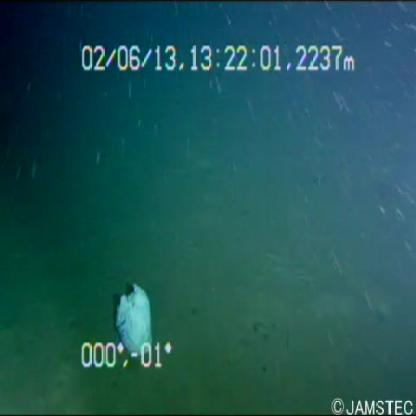Rác: (105, 273, 166, 363)
